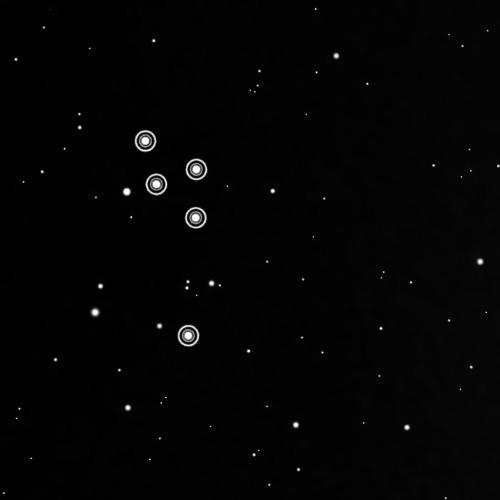delphinus: (129, 122, 216, 354)
